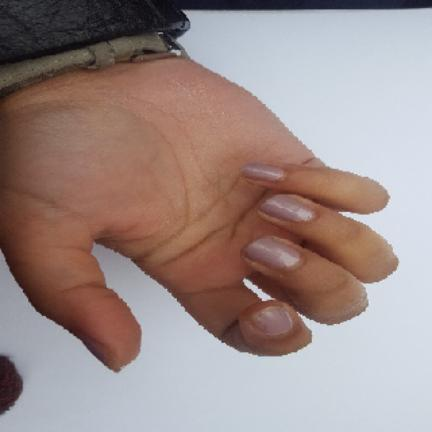Nail: (243, 237, 301, 270), (259, 194, 316, 222), (248, 305, 294, 338), (241, 163, 284, 182)
